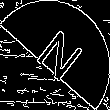N_SW: (26, 22, 84, 88)
